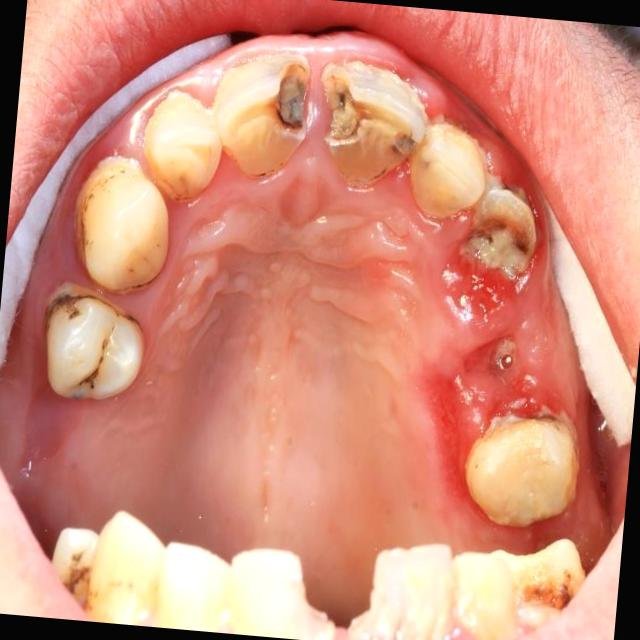caries: (314, 59, 428, 194), (209, 46, 316, 182), (467, 187, 539, 280), (499, 536, 588, 610)
